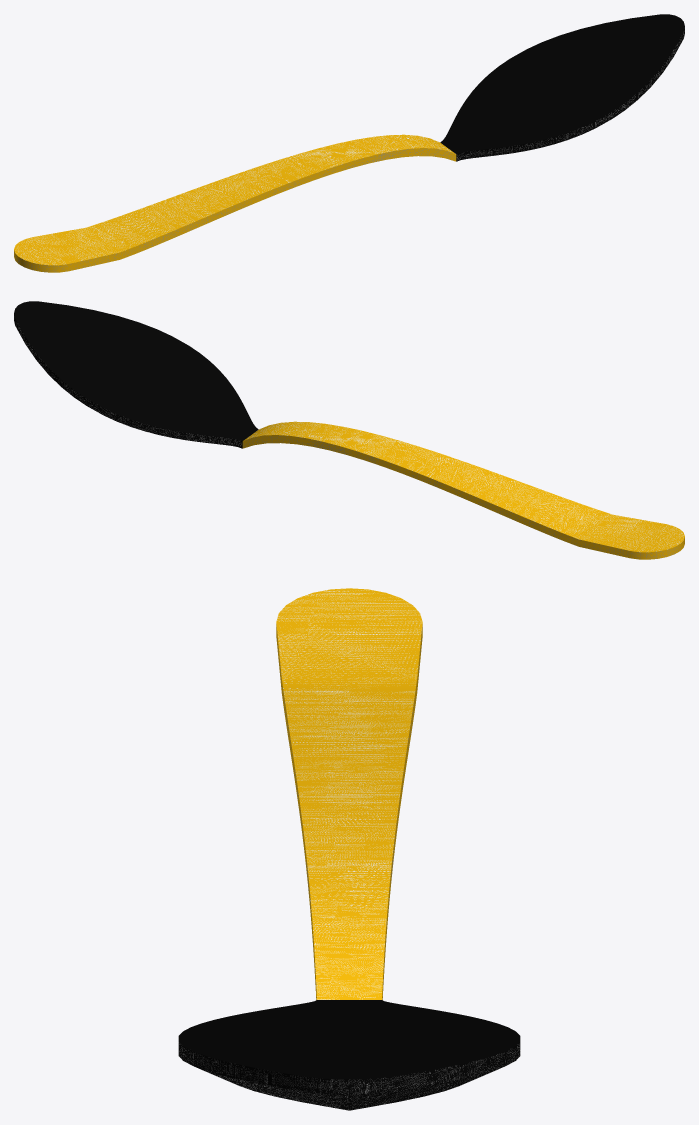
File: spoon_10_origin_gt_1.dae
3 views of the same model, one above another, from view 1: azimuth 30°, elevation 25°; view 2: azimuth 150°, elevation 25°; view 3: azimuth 270°, elevation 25° (orthographic). The views are drawn at different scales.
Visible parts, largest first — view 1: Spoon (×4); view 2: Spoon (×4); view 3: Spoon (×4).
Boxes of the visible parts, <box> form: Spoon (×4): <box>14,14,684,272</box>; Spoon (×4): <box>14,301,684,559</box>; Spoon (×4): <box>178,588,520,1110</box>.
Size of the model in its own units: 5.88 by 1.31 by 0.75.
